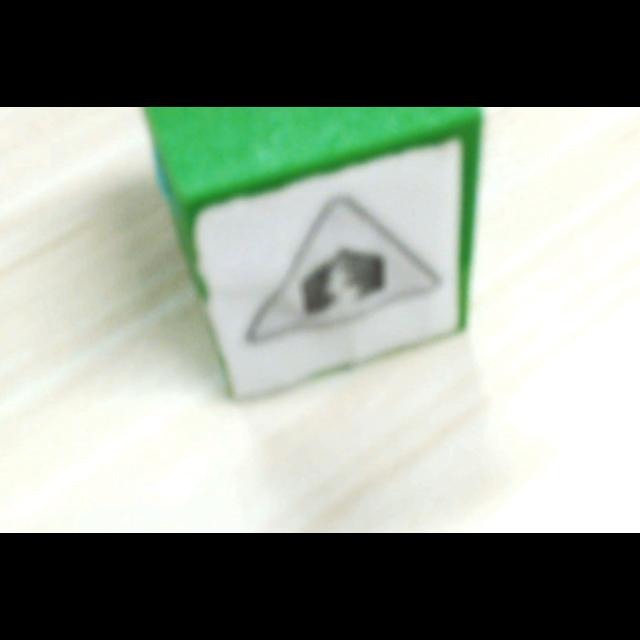Earthquake: (246, 197, 439, 342)
